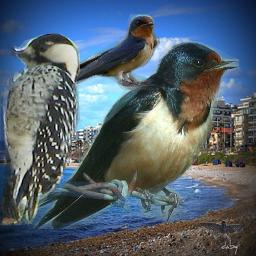Swallow: (0, 41, 239, 229), (29, 14, 160, 90), (198, 220, 245, 242)
Woodpecker: (1, 32, 80, 225)
